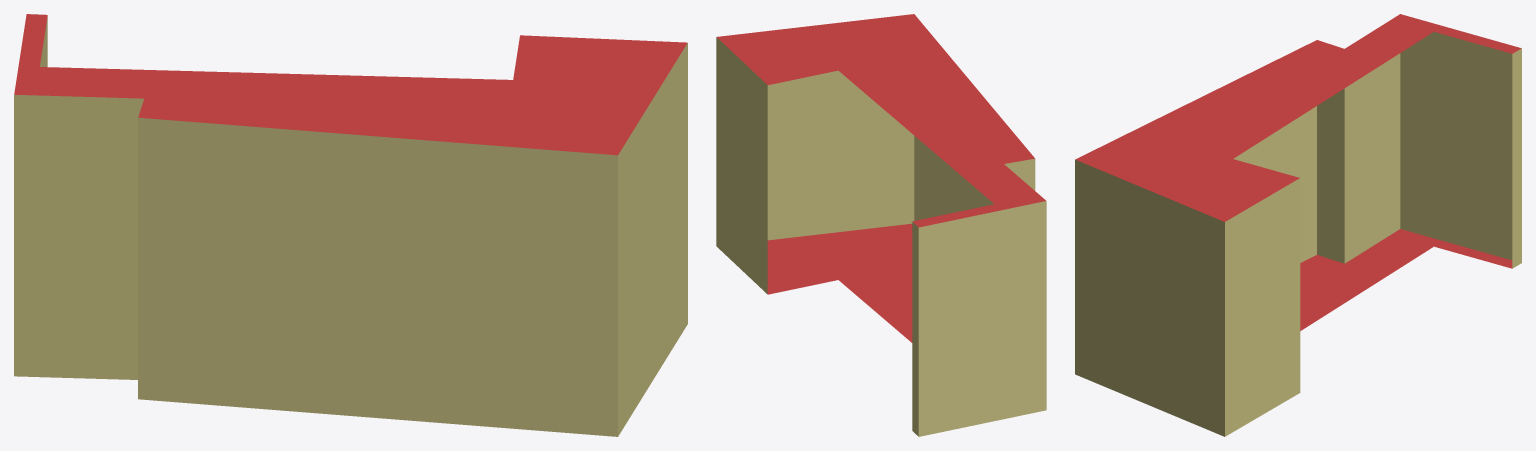
The picture shows the model from 3 angles, left to right: view 1: azimuth 30°, elevation 25°; view 2: azimuth 150°, elevation 25°; view 3: azimuth 270°, elevation 25°; orthographic projection. The views are drawn at different scales.
Size of the model in its own units: 15.12 by 13.72 by 7.28.
